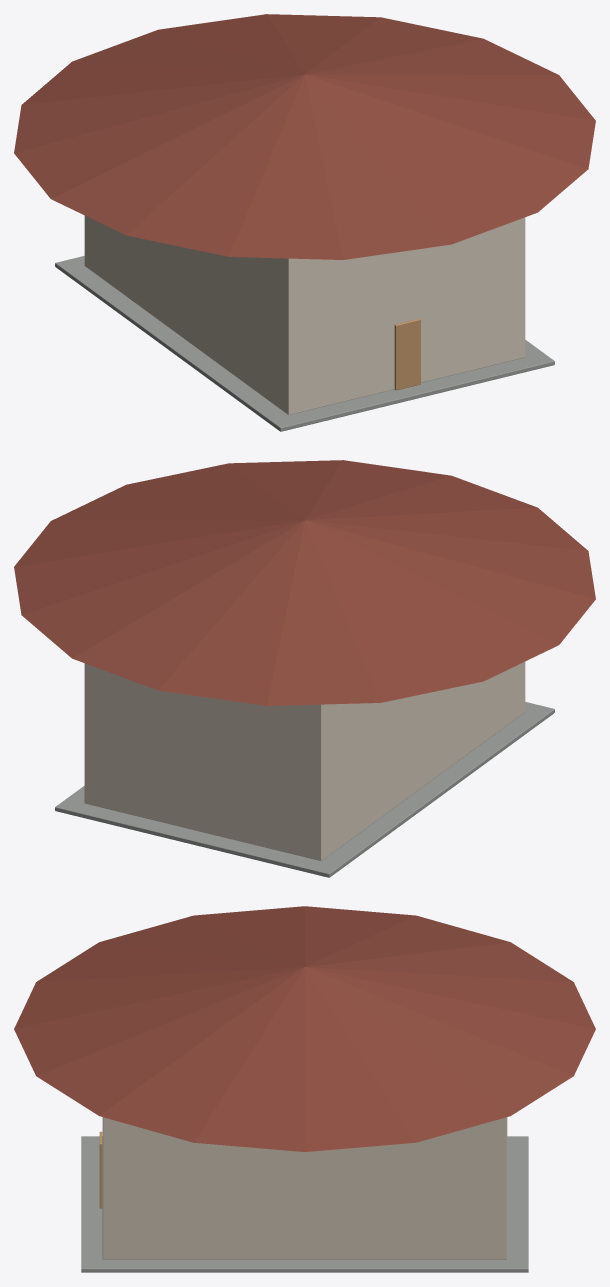
Rendered from Building_Residential_018.glb.
3 views of the same model, one above another, from view 1: azimuth 30°, elevation 25°; view 2: azimuth 150°, elevation 25°; view 3: azimuth 270°, elevation 25° (orthographic).
Parts seen in each view (by area): view 1: Building_Residential_018; view 2: Building_Residential_018; view 3: Building_Residential_018.
Part boxes in pixels (x1,y1,x2,y2): Building_Residential_018: [14, 14, 595, 431]; Building_Residential_018: [14, 460, 595, 877]; Building_Residential_018: [14, 906, 595, 1272].
Size of the model in its own units: 20.36 by 9.25 by 20.36.
